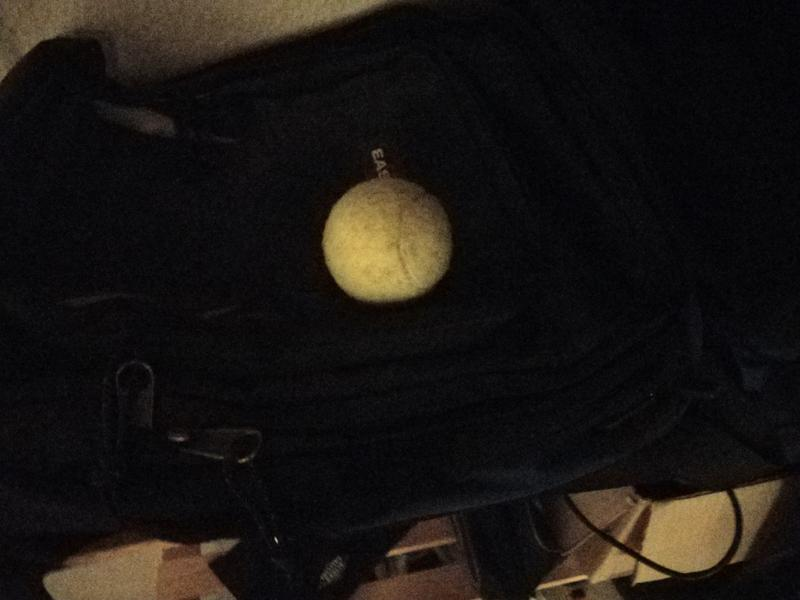Tennisball: (319, 173, 455, 306)
